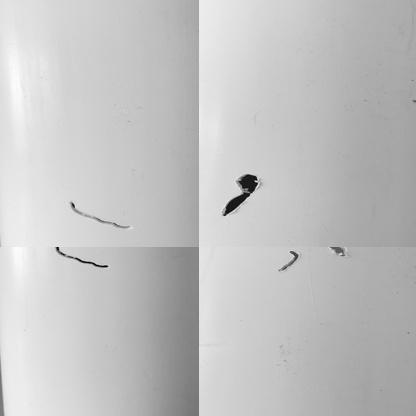fengxi: (69, 200, 140, 234), (53, 244, 109, 272), (279, 249, 304, 275)
kongdong: (219, 168, 266, 224), (330, 246, 346, 256)
